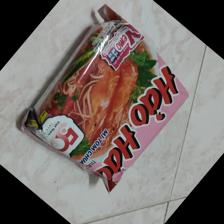Haohao: (14, 5, 191, 192)
